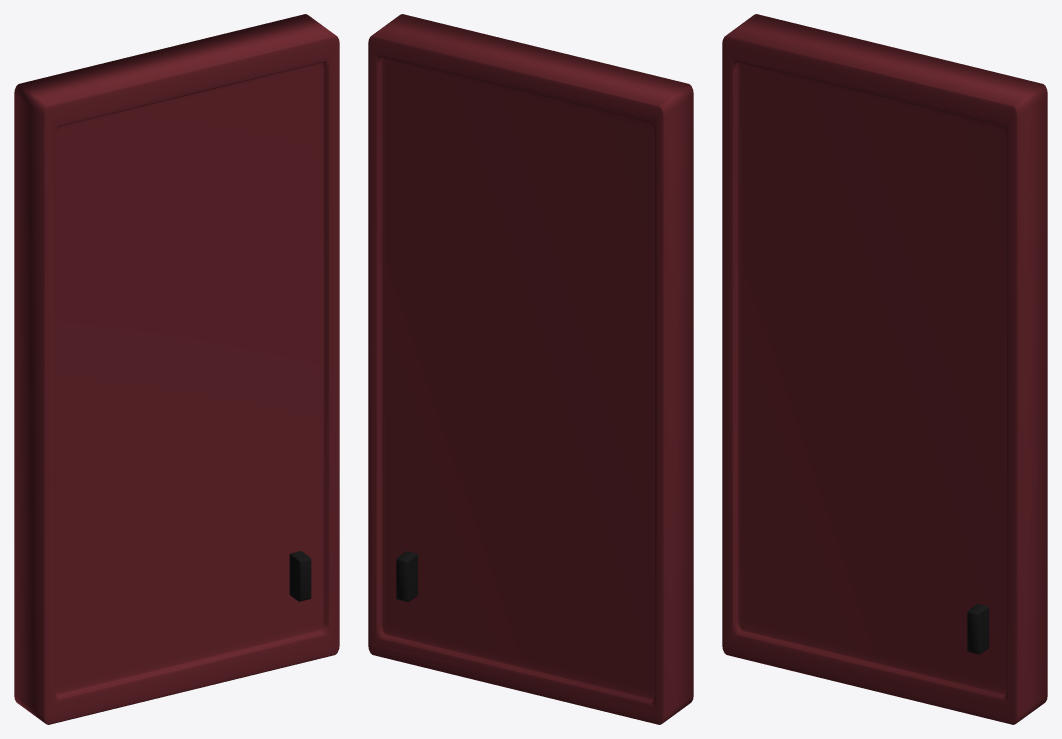
The model's file is Door.fbx.
The picture shows the model from 3 angles, left to right: view 1: azimuth 30°, elevation 25°; view 2: azimuth 150°, elevation 25°; view 3: azimuth 330°, elevation 25°; orthographic projection.
Visible parts, largest first — view 1: Door, Handle; view 2: Door, Handle; view 3: Door, Handle.
Boxes of the visible parts, bbox=[...] form: Door: bbox=[14, 14, 339, 724]; Handle: bbox=[289, 551, 311, 601]; Door: bbox=[368, 14, 693, 724]; Handle: bbox=[396, 551, 417, 601]; Door: bbox=[722, 14, 1047, 724]; Handle: bbox=[967, 604, 989, 654].
Size of the model in its own units: 200 by 400 by 48.19.
